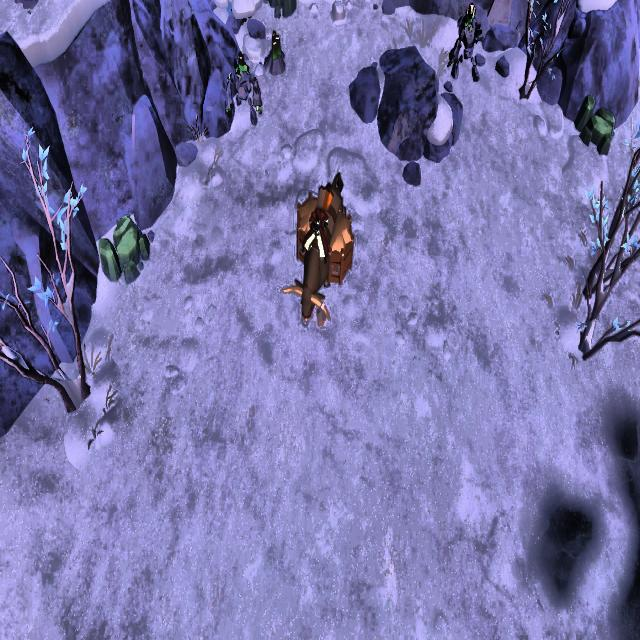ore_t3: (270, 25, 284, 65)
rock_t3: (91, 208, 157, 286), (569, 82, 620, 158), (261, 0, 298, 21)
